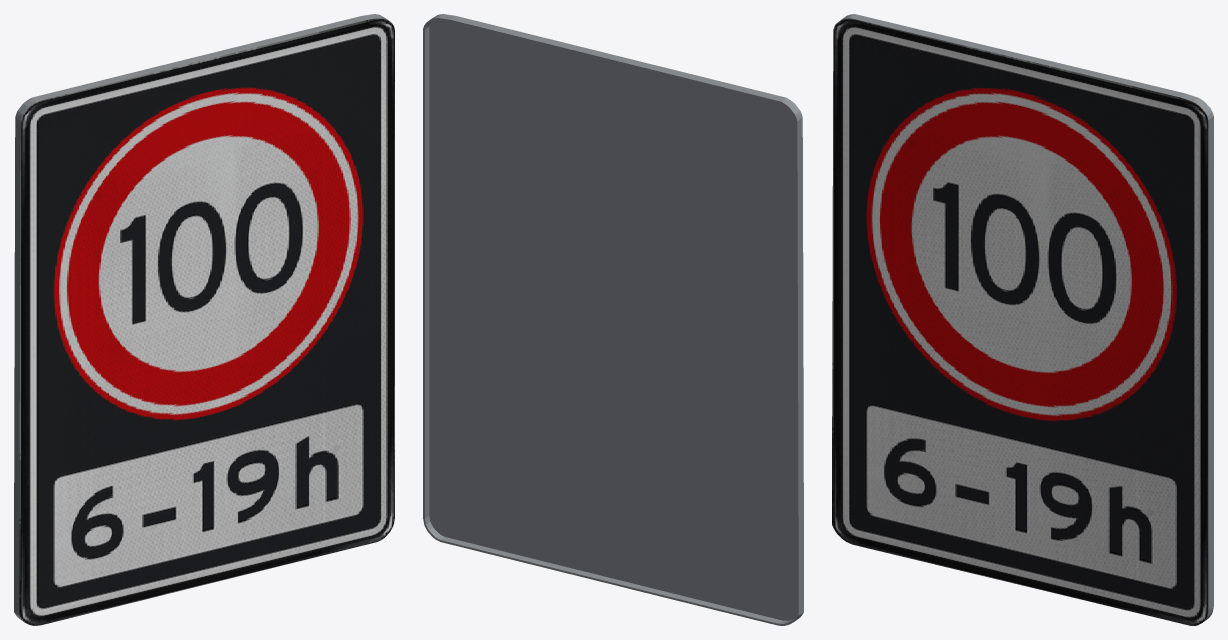
3 views of the same model, side by side, from view 1: azimuth 30°, elevation 25°; view 2: azimuth 150°, elevation 25°; view 3: azimuth 330°, elevation 25° (orthographic).
Parts seen in each view (by area): view 1: cat_9733e338e4611404; view 2: cat_9733e338e4611404; view 3: cat_9733e338e4611404.
Part boxes in pixels (<box>): cat_9733e338e4611404: <box>14,14,394,625</box>; cat_9733e338e4611404: <box>423,14,803,625</box>; cat_9733e338e4611404: <box>832,14,1213,625</box>.
Bounding box in the file's own units: 0.6 × 0.015 × 0.8031.
Materials: 2 (1 with a texture image).
